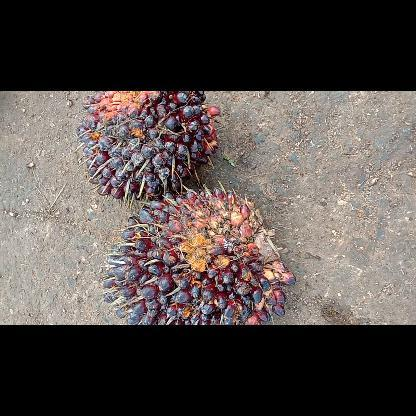Kurang masak: (100, 184, 296, 324), (74, 91, 223, 203)
